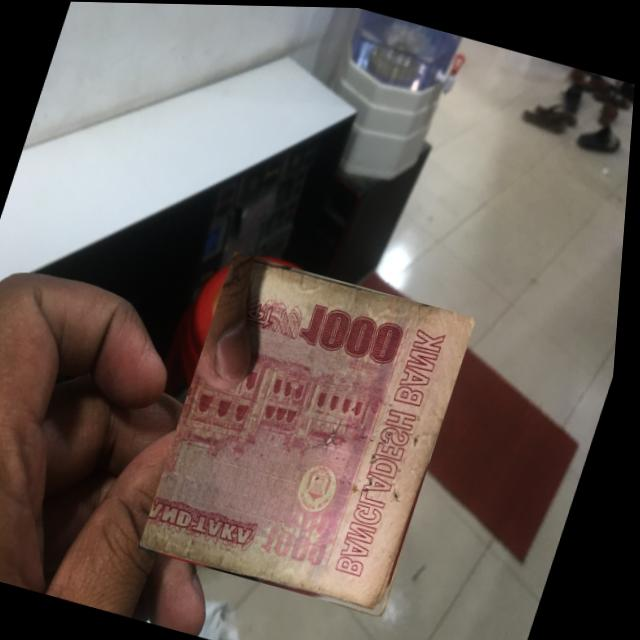Taka: (143, 249, 485, 614)
